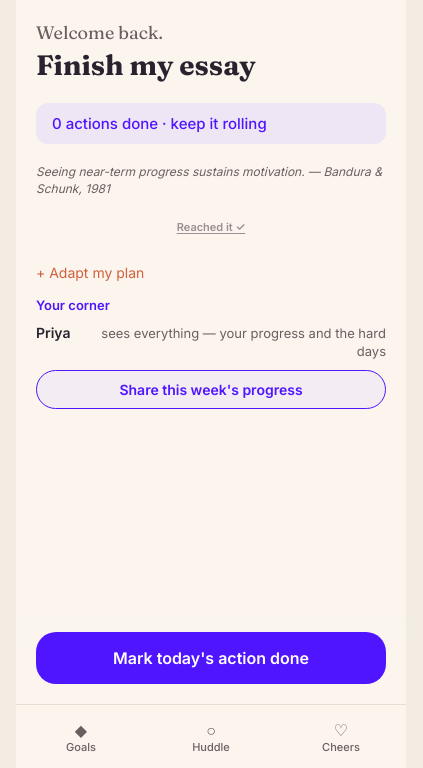
Test: switching to the Huddle tab shows the huddle content
Step 1. Click the button "○ Huddle" → (211, 736), box [146,705,276,767]
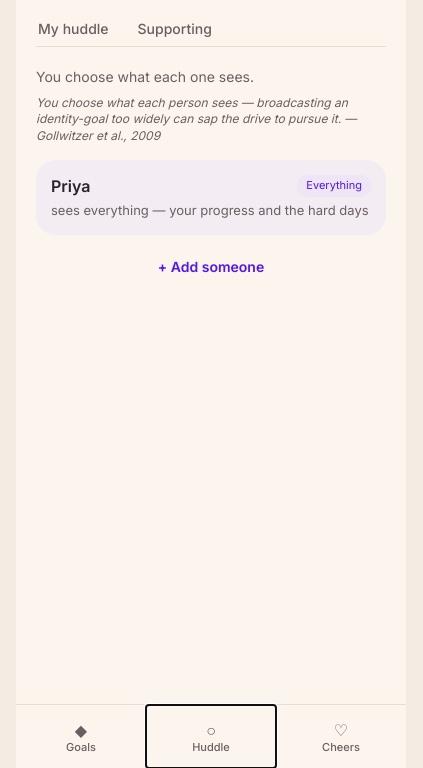
Expected: the tab "Supporting" is shown, [136,20,214,47]
